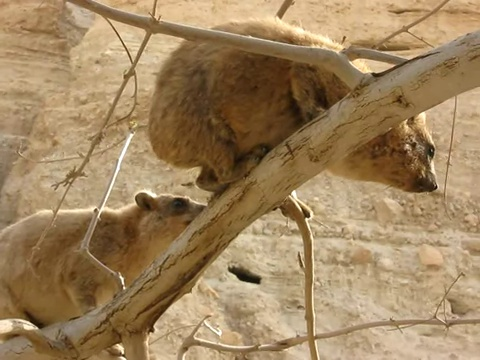Rock Hyrex: (144, 13, 440, 195), (1, 195, 215, 342)
